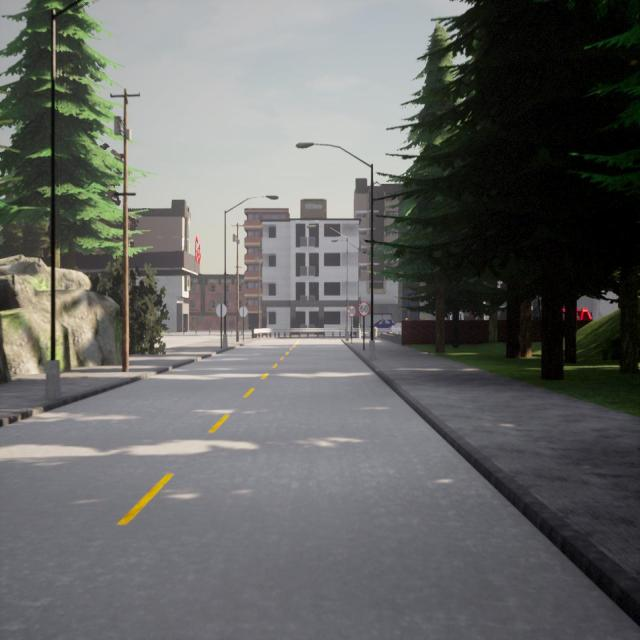Traffic_Signs: (358, 301, 370, 317), (216, 304, 227, 318), (347, 306, 356, 318), (240, 306, 248, 318)
Vehicle: (374, 320, 395, 328)
